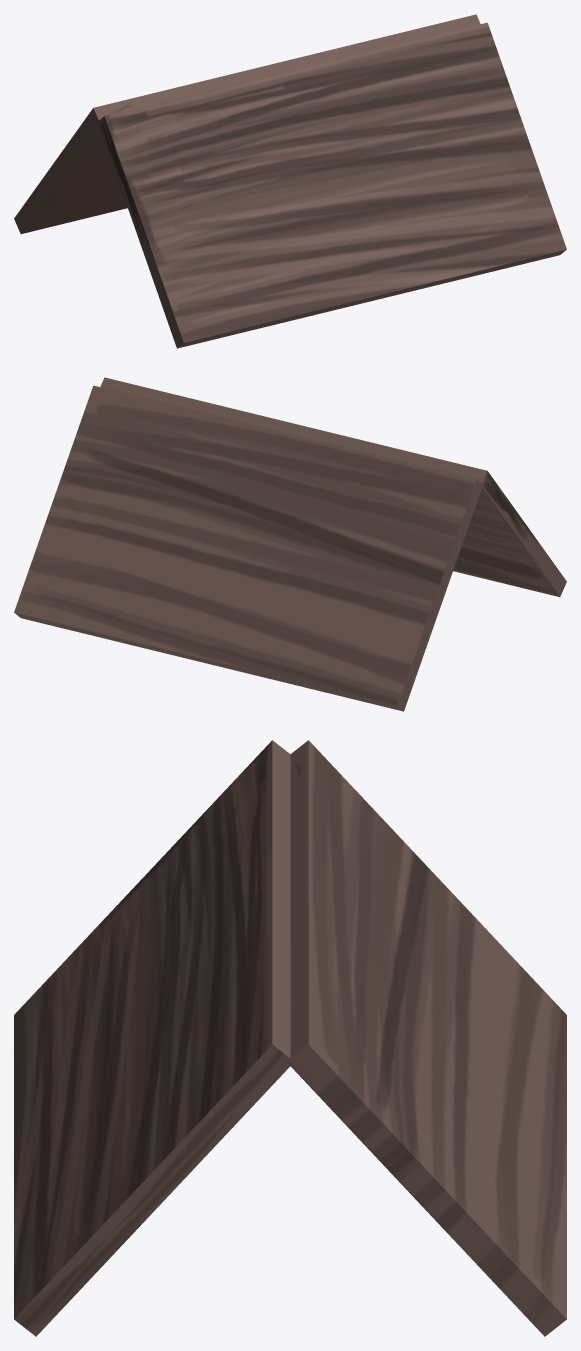
File: StoneWell_part_15.fbx
The picture shows the model from 3 angles, top to bottom: view 1: azimuth 30°, elevation 25°; view 2: azimuth 150°, elevation 25°; view 3: azimuth 270°, elevation 25°; orthographic projection. The views are drawn at different scales.
Parts seen in each view (by area): view 1: Cube.002_Roof_0.001; view 2: Cube.002_Roof_0.001; view 3: Cube.002_Roof_0.001.
Boxes of the visible parts, x1,y1,x2,y2 form: Cube.002_Roof_0.001: [14, 14, 566, 348]; Cube.002_Roof_0.001: [14, 377, 566, 711]; Cube.002_Roof_0.001: [14, 740, 566, 1336].
Size of the model in its own units: 1223 by 548 by 939.
